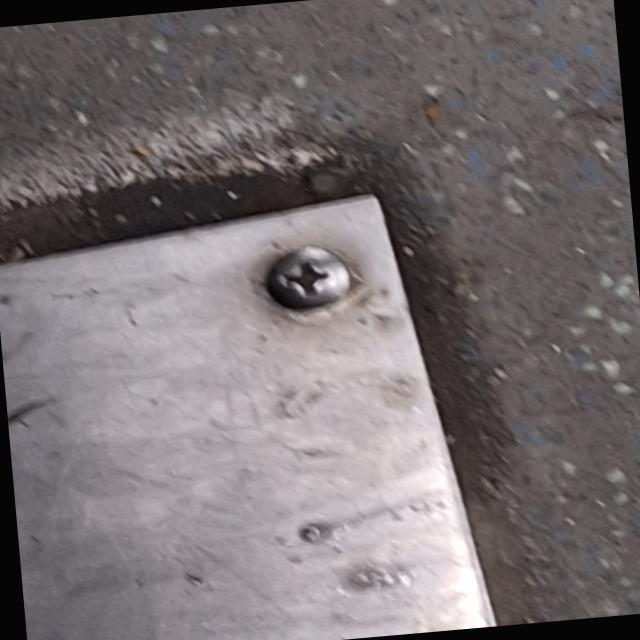Phillips: (250, 234, 374, 324)
